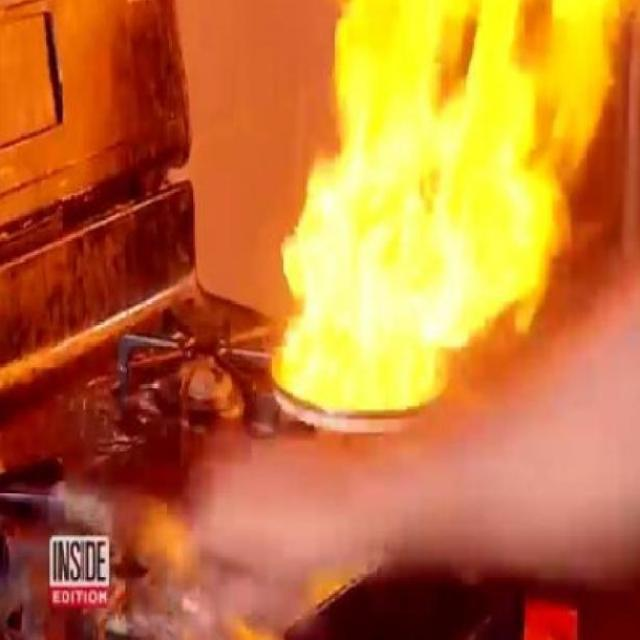fire: (198, 268, 640, 573)
smoke: (274, 0, 613, 403)
